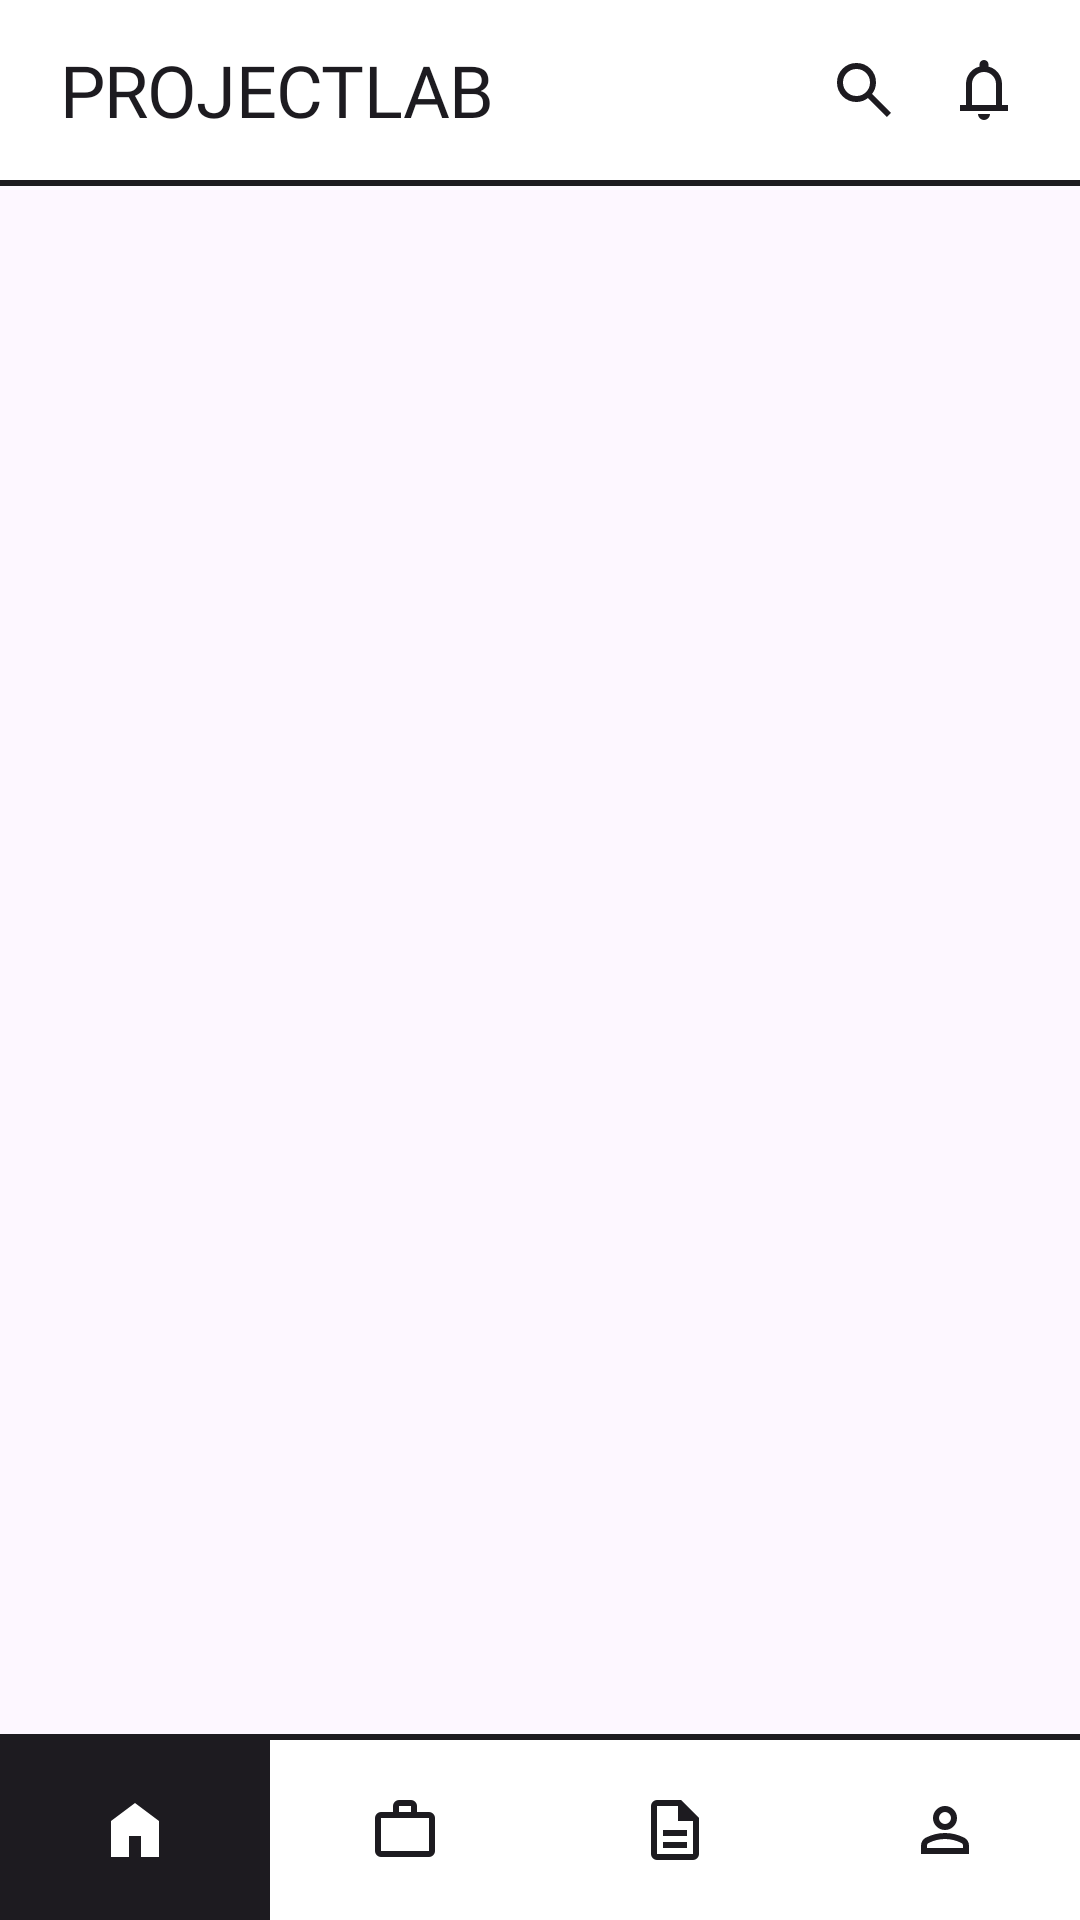

Named icons in this screenshot (1080 × 1920) and their bounding boxes, (x1, y1, x2, y2):
description: (651, 1800, 699, 1860)
home: (111, 1803, 159, 1857)
notifications: (960, 60, 1008, 120)
person: (921, 1806, 969, 1854)
search: (837, 63, 891, 117)
work: (375, 1800, 435, 1857)
